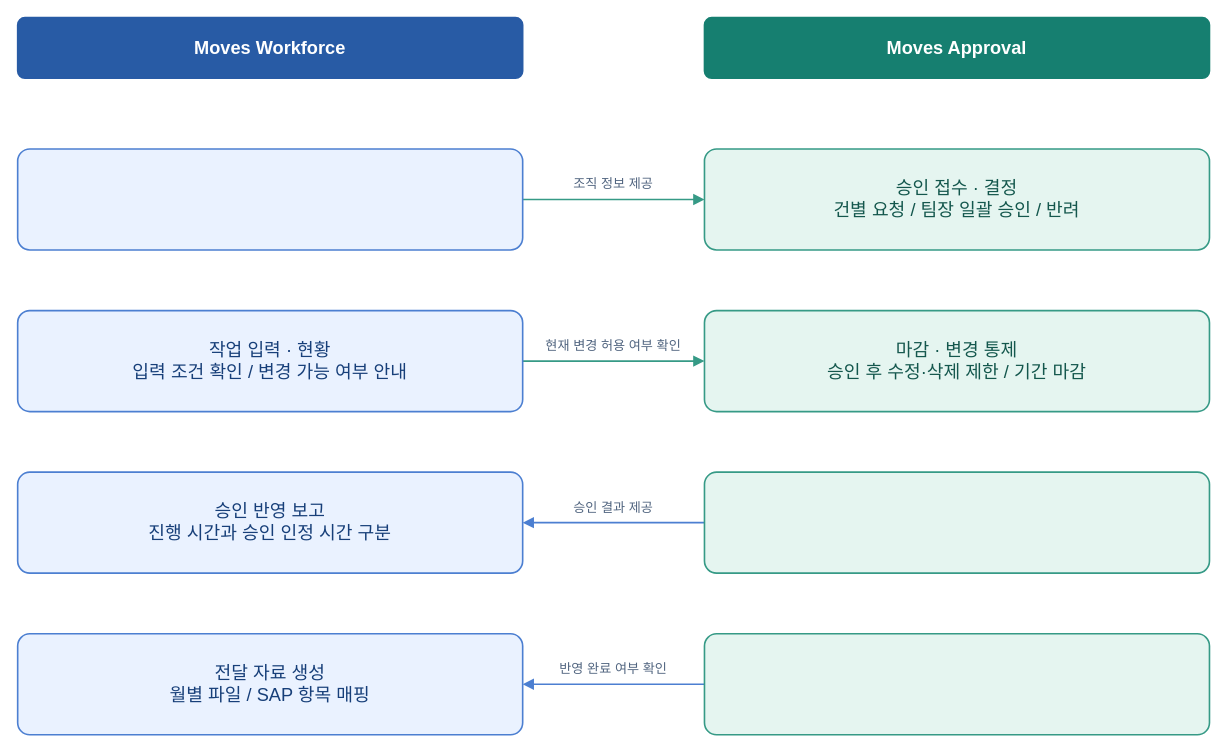
This 1228x753 diagram has some shape labels left out. The shapes that lost their labels are listed below. From the top down, each one's centre as x and y in pixels, then its label:
the point at 269,199: 조직 · 프로젝트 관리 팀 / 팀장 / 참여자 / 연결 프로젝트
the point at 956,522: 이력 · 증거 조회 승인 당시 값 / 변경 전후 / 처리 상태
the point at 956,683: 연동 상태 관리 전달 대기 / 오류 / 재처리 확인
